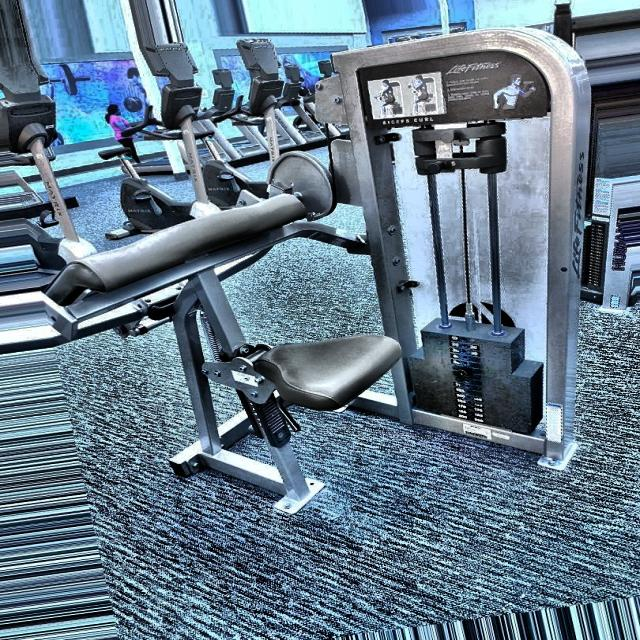bicep_curl_machine: (0, 86, 424, 540), (363, 70, 562, 119)
